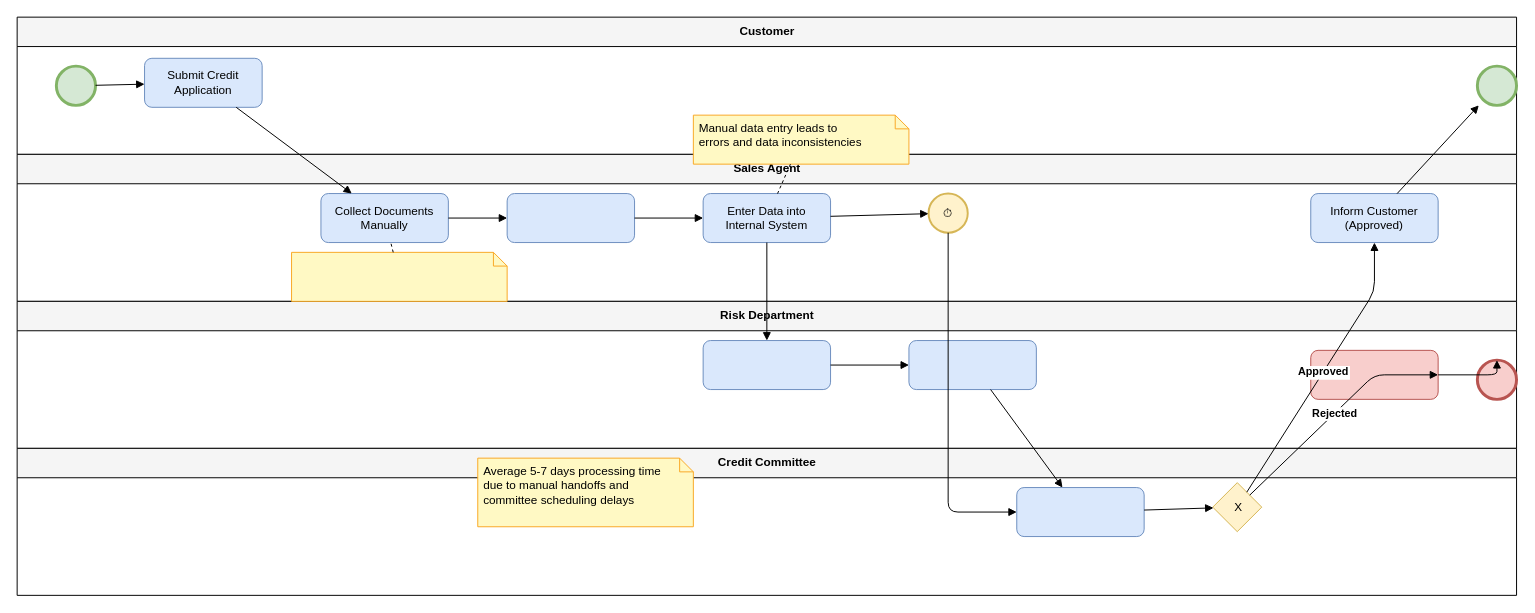
This 1535x613 diagram has some shape labels left out. The centre of each missing label's shape, as x and y in pixels:
"Assess Collateral & Guarantees" goes at point 972,365.
"Inform Customer (Rejected)" goes at point 1374,374.
"Pain Point: Documents often incomplete requiring multiple visits" goes at point 399,276.
"Perform Credit Review" goes at point 766,365.
"Review & Discuss Application" goes at point 1080,512.
"Verify Customer Identity" goes at point 570,218.
